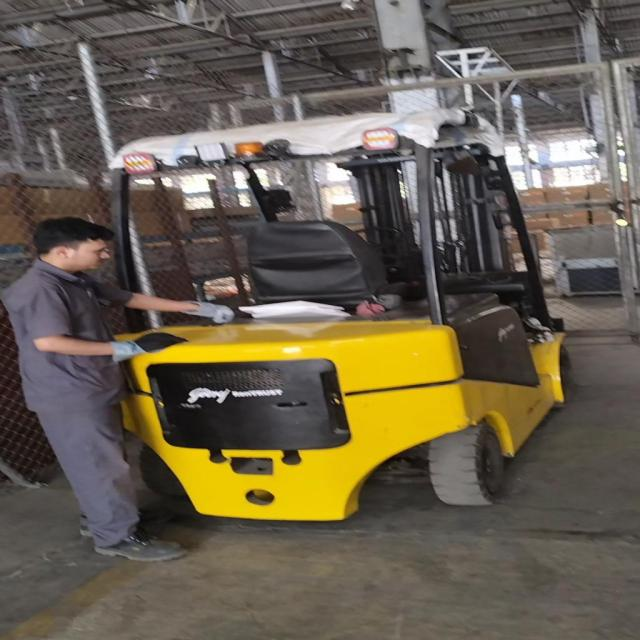Gloves-Detection: (104, 330, 180, 361), (181, 298, 242, 322)
